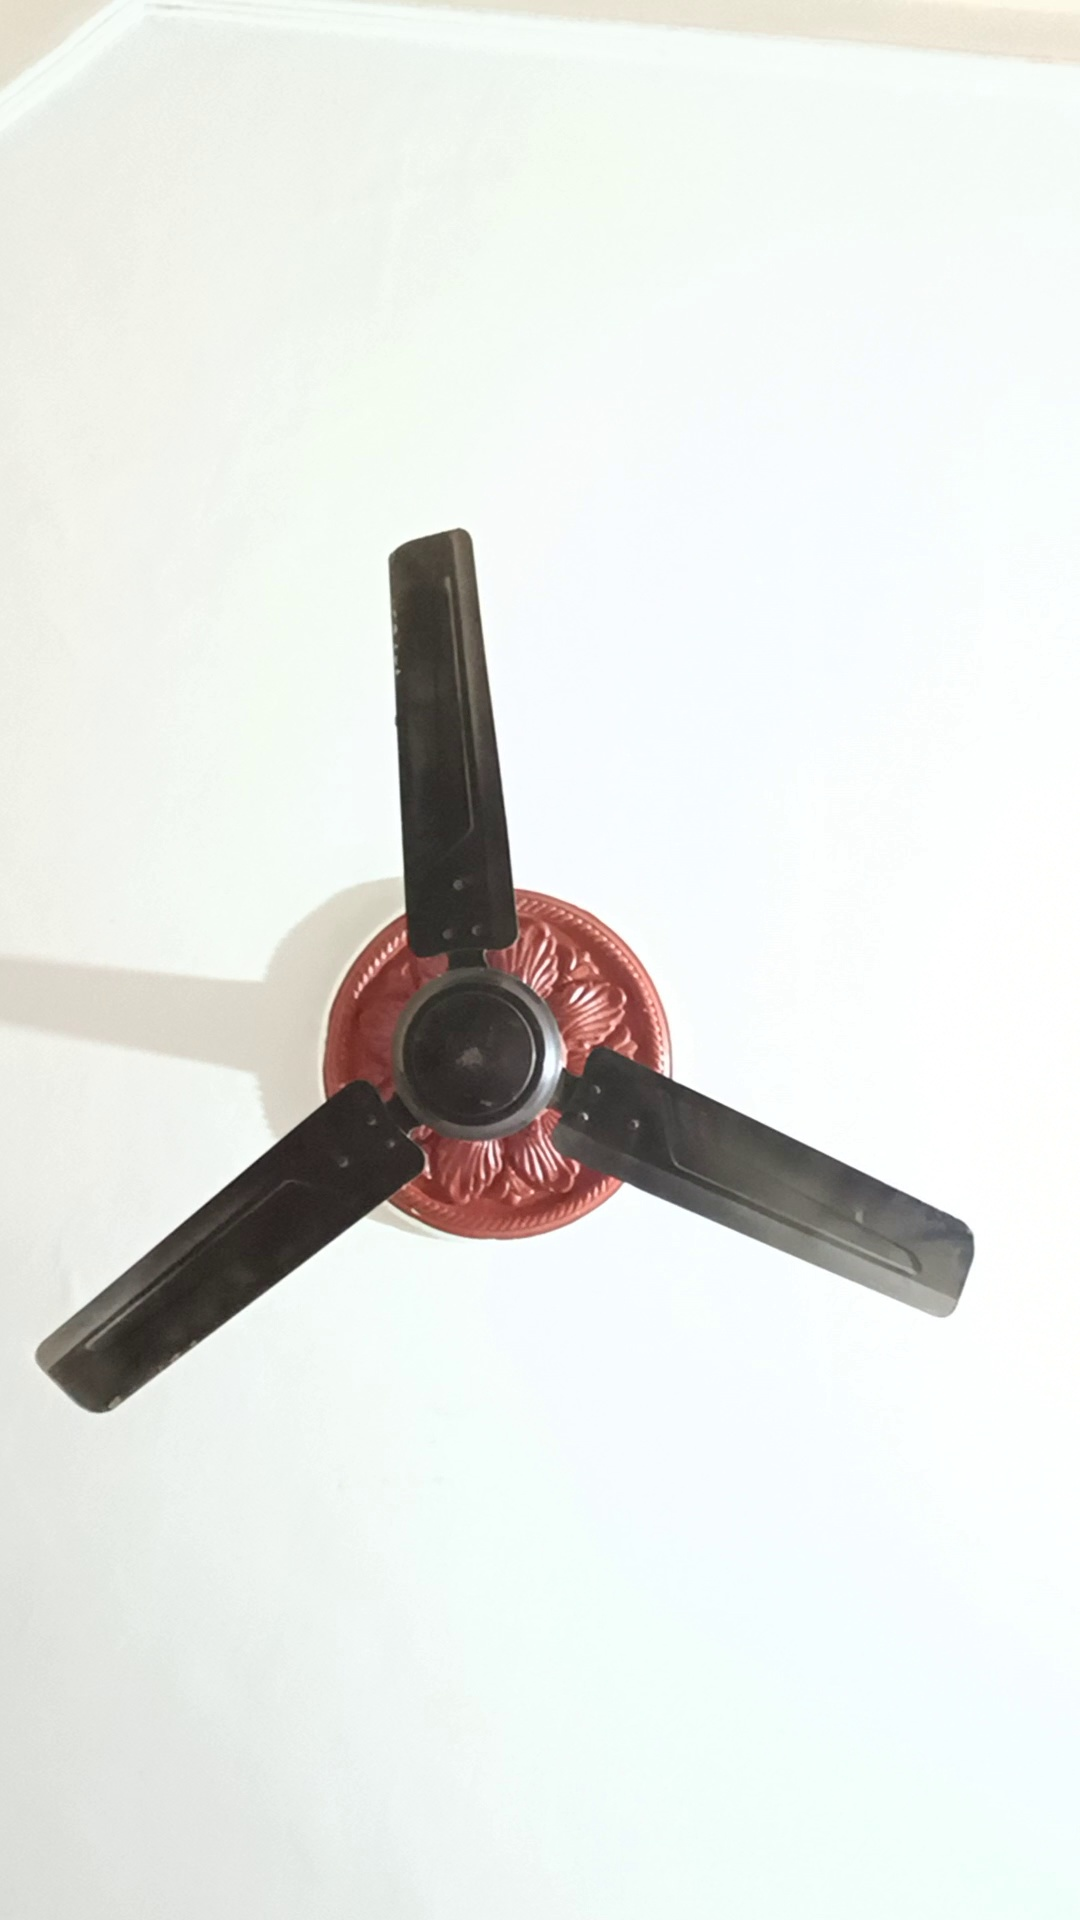fan: (40, 512, 982, 1418)
